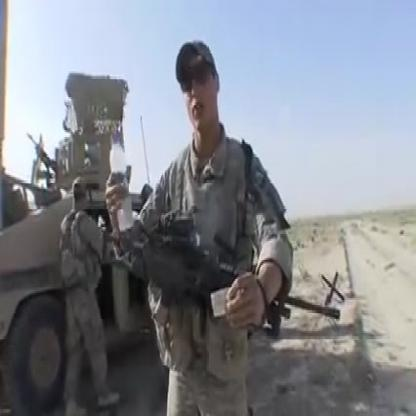Gun: (119, 197, 344, 378)
